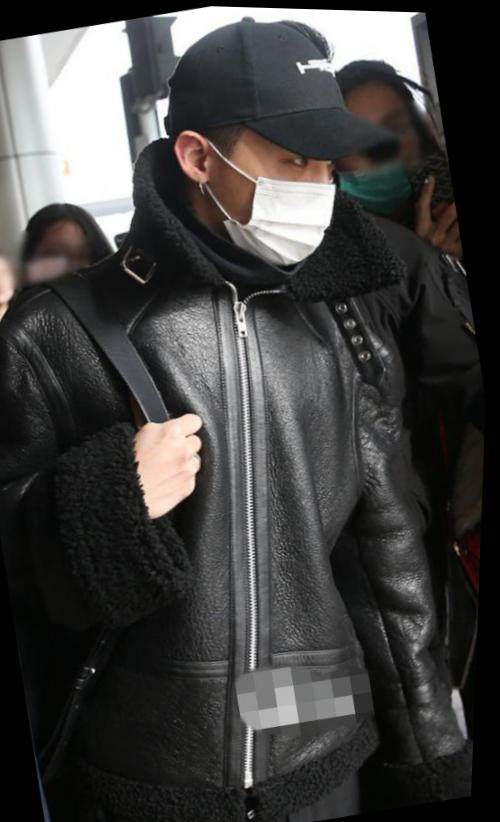OK: (217, 128, 361, 271)
WRONG: (330, 99, 439, 217)
